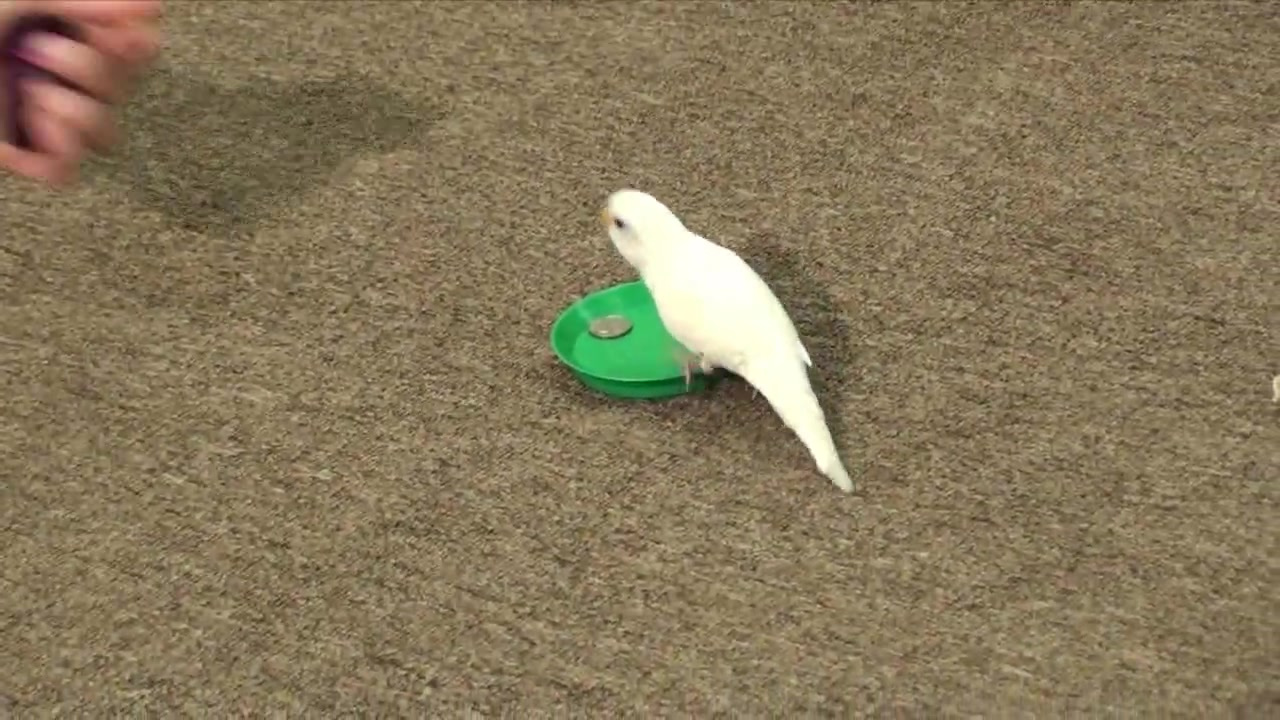bird: (597, 184, 862, 501)
